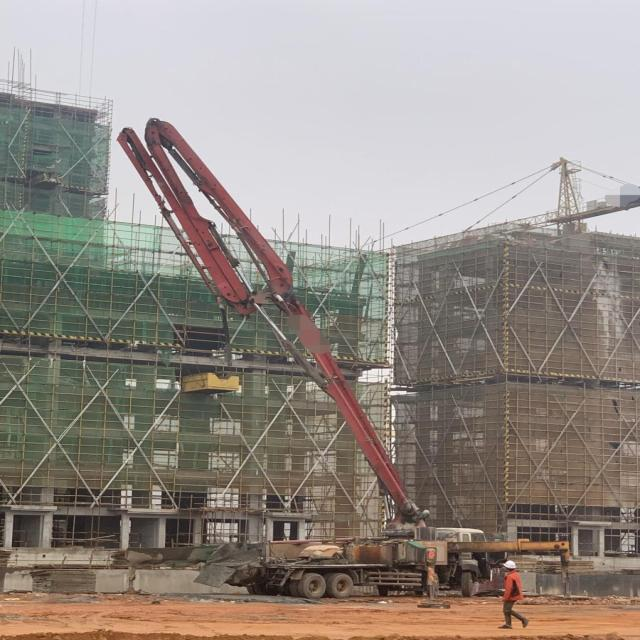crane: (367, 150, 640, 249)
truck: (100, 106, 598, 610)
